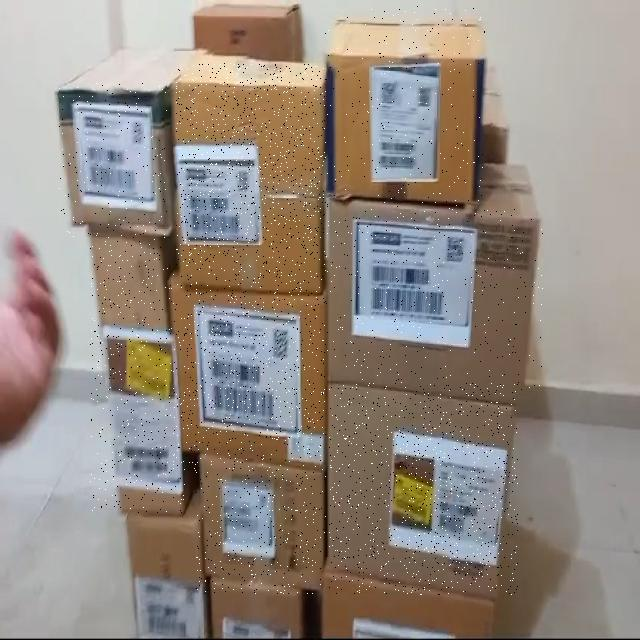BoxFace: (325, 208, 543, 394), (329, 383, 518, 595), (176, 63, 326, 296), (325, 7, 485, 208), (170, 277, 327, 471), (90, 228, 185, 513), (196, 456, 326, 594), (59, 84, 168, 238)
